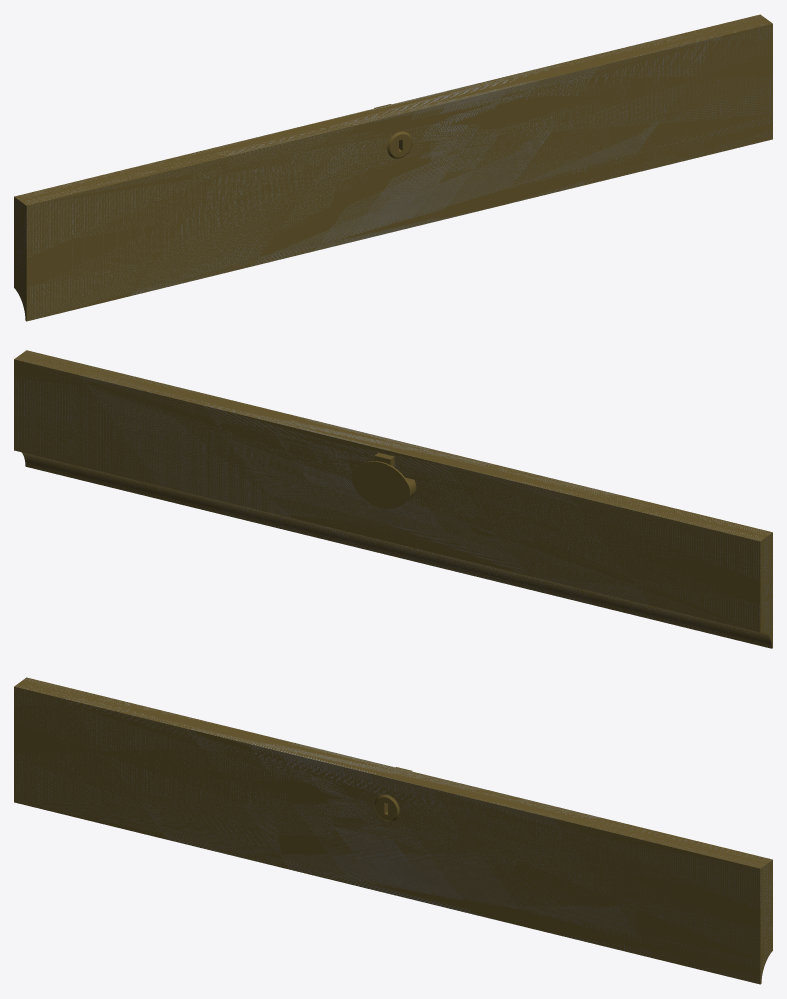
File: original-5.obj
The picture shows the model from 3 angles, top to bottom: view 1: azimuth 30°, elevation 25°; view 2: azimuth 150°, elevation 25°; view 3: azimuth 330°, elevation 25°; orthographic projection.
Visible parts, largest first — view 1: Group6/mesh9/mesh9-geometry#mesh9-geometry; view 2: Group6/mesh9/mesh9-geometry#mesh9-geometry; view 3: Group6/mesh9/mesh9-geometry#mesh9-geometry.
Part boxes in pixels (x1,y1,x2,y2): Group6/mesh9/mesh9-geometry#mesh9-geometry: [14, 14, 772, 321]; Group6/mesh9/mesh9-geometry#mesh9-geometry: [14, 350, 772, 648]; Group6/mesh9/mesh9-geometry#mesh9-geometry: [14, 677, 772, 984].
Bounding box in the file's own units: 0.6916 × 0.1025 × 0.0319.
